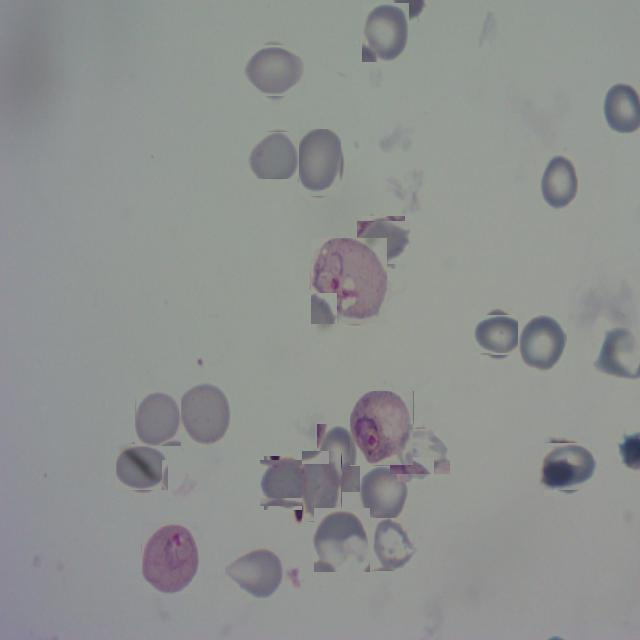leukocyte: (314, 508, 369, 572), (179, 382, 233, 445), (247, 42, 304, 99), (225, 547, 285, 600), (518, 313, 568, 374), (359, 464, 409, 524), (317, 424, 360, 492), (299, 129, 342, 197), (542, 439, 594, 494), (302, 451, 342, 522), (362, 3, 409, 63), (394, 426, 446, 478), (371, 518, 419, 572), (135, 390, 181, 446), (262, 458, 312, 508), (248, 130, 298, 180), (539, 153, 580, 212), (118, 442, 166, 492), (476, 311, 524, 359), (359, 218, 407, 266)
schizont: (311, 238, 388, 325), (350, 391, 414, 466), (142, 522, 202, 594)
